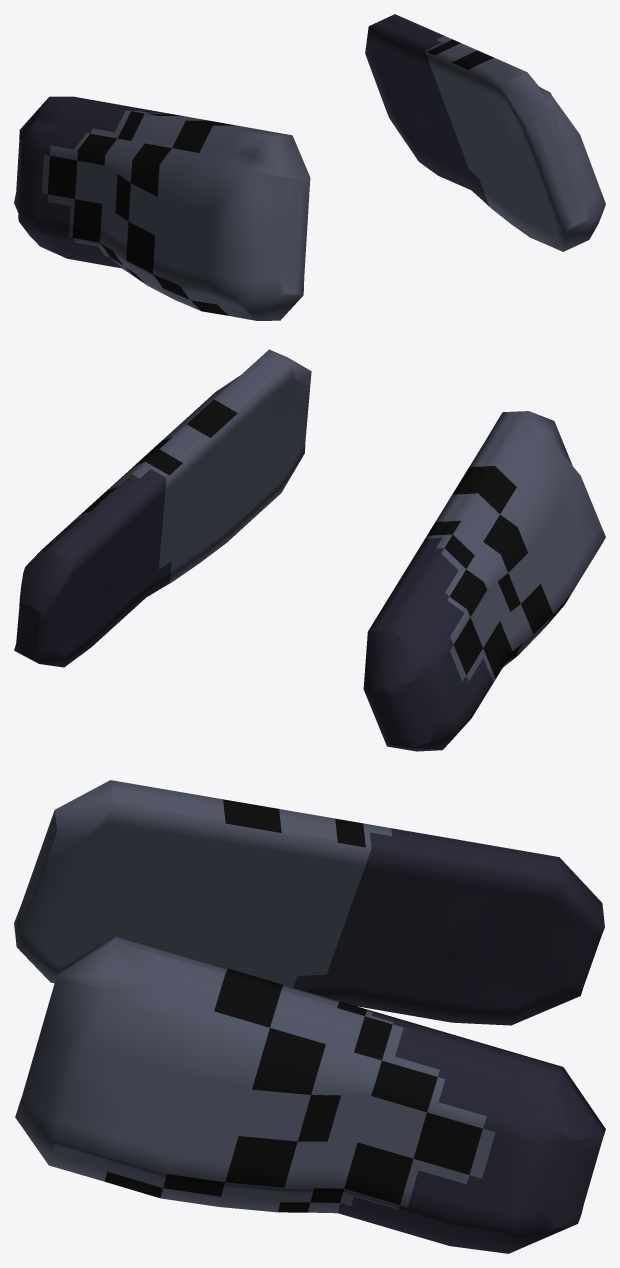
File: FlyersFixedOBJ.obj
3 views of the same model, one above another, from view 1: azimuth 30°, elevation 25°; view 2: azimuth 150°, elevation 25°; view 3: azimuth 270°, elevation 25° (orthographic). The views are drawn at different scales.
Parts seen in each view (by area): view 1: flyers_l, flyers_r001; view 2: flyers_l, flyers_r001; view 3: flyers_r001, flyers_l.
Boxes of the visible parts, bbox=[...] form: flyers_l: bbox=[14, 96, 310, 320]; flyers_r001: bbox=[365, 14, 605, 251]; flyers_l: bbox=[363, 411, 605, 751]; flyers_r001: bbox=[14, 349, 311, 667]; flyers_r001: bbox=[15, 935, 605, 1253]; flyers_l: bbox=[14, 780, 604, 1025].
Size of the model in its own units: 50.31 by 23.6 by 45.9.
